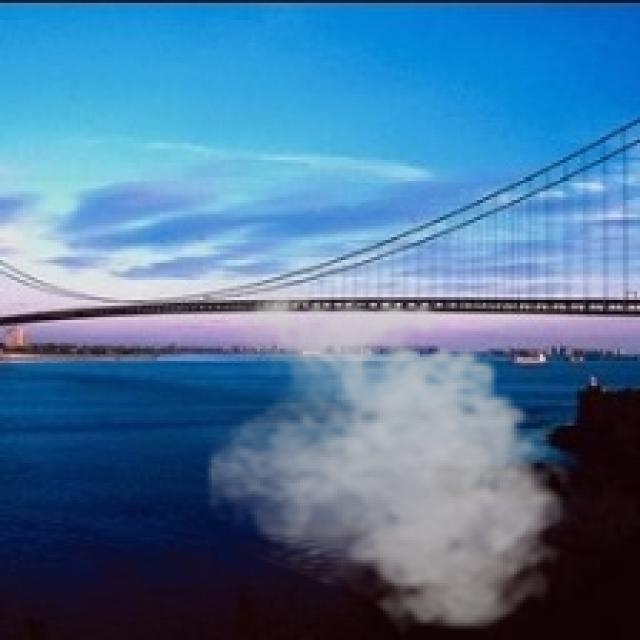Smoke: (205, 277, 578, 637)
